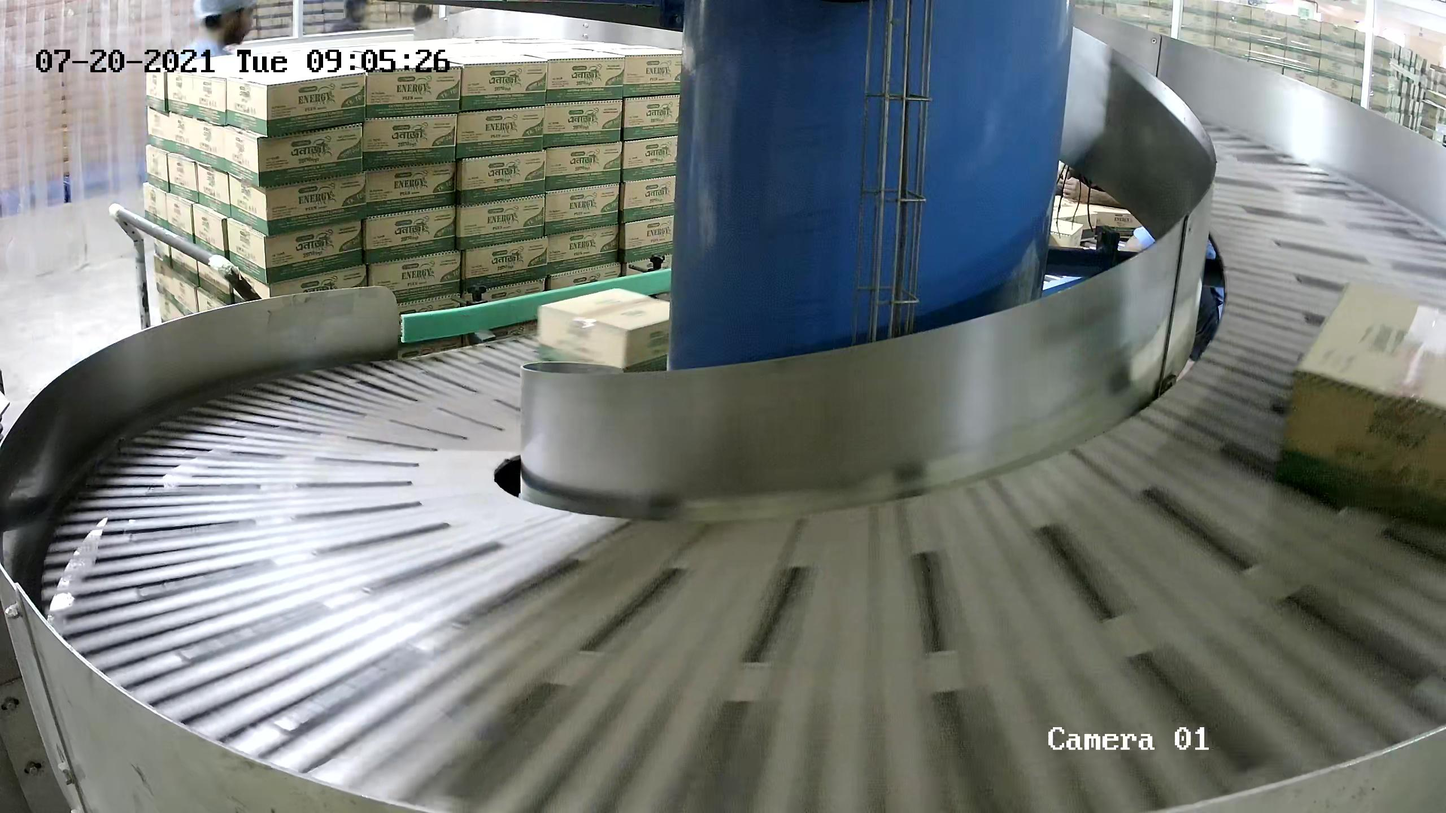Box: (1276, 279, 1446, 530), (537, 287, 689, 381)
